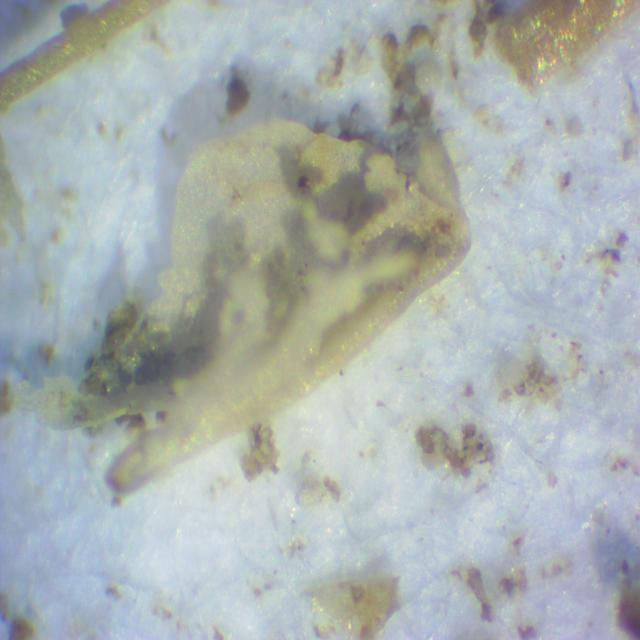microplastic: (24, 117, 472, 499)
